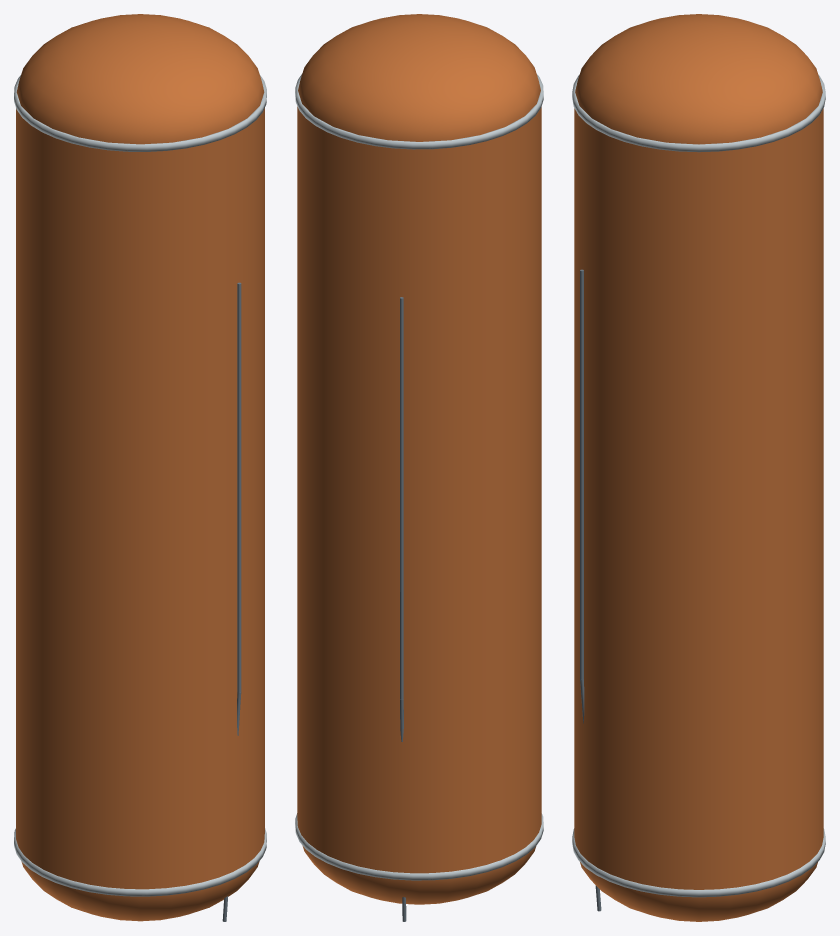
The model's file is titan_stage_1_nto_vessel.glb.
The picture shows the model from 3 angles, left to right: view 1: azimuth 30°, elevation 25°; view 2: azimuth 150°, elevation 25°; view 3: azimuth 270°, elevation 25°; orthographic projection.
Visible parts, largest first — view 1: titan_stage_1_nto_vessel.mesh_Spray-on_insulation, titan_stage_1_nto_vessel.mesh_Satin_aluminum, titan_stage_1_nto_vessel.mesh_Machined_steel; view 2: titan_stage_1_nto_vessel.mesh_Spray-on_insulation, titan_stage_1_nto_vessel.mesh_Satin_aluminum, titan_stage_1_nto_vessel.mesh_Machined_steel; view 3: titan_stage_1_nto_vessel.mesh_Spray-on_insulation, titan_stage_1_nto_vessel.mesh_Satin_aluminum, titan_stage_1_nto_vessel.mesh_Machined_steel.
Part boxes in pixels (box(x1,y1,x2,y2)): titan_stage_1_nto_vessel.mesh_Spray-on_insulation: box(16, 14, 264, 921); titan_stage_1_nto_vessel.mesh_Satin_aluminum: box(14, 74, 266, 896); titan_stage_1_nto_vessel.mesh_Machined_steel: box(222, 282, 241, 921); titan_stage_1_nto_vessel.mesh_Spray-on_insulation: box(297, 14, 541, 904); titan_stage_1_nto_vessel.mesh_Satin_aluminum: box(295, 73, 543, 880); titan_stage_1_nto_vessel.mesh_Machined_steel: box(400, 297, 406, 921); titan_stage_1_nto_vessel.mesh_Spray-on_insulation: box(574, 14, 823, 921); titan_stage_1_nto_vessel.mesh_Satin_aluminum: box(572, 75, 825, 897); titan_stage_1_nto_vessel.mesh_Machined_steel: box(580, 269, 601, 911).
Bounding box in the file's own units: 2.83 × 10.7 × 2.83.
